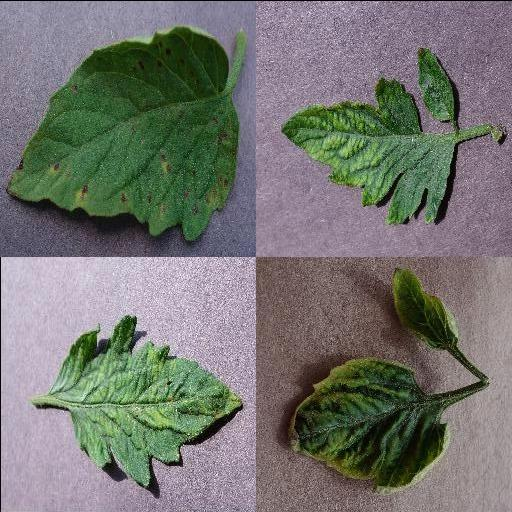Mosaic Virus: (49, 313, 245, 487), (279, 74, 459, 226)
Septoria: (6, 23, 238, 240)
Yellow Leaf Curl Virus: (286, 357, 450, 493), (390, 262, 462, 347)
